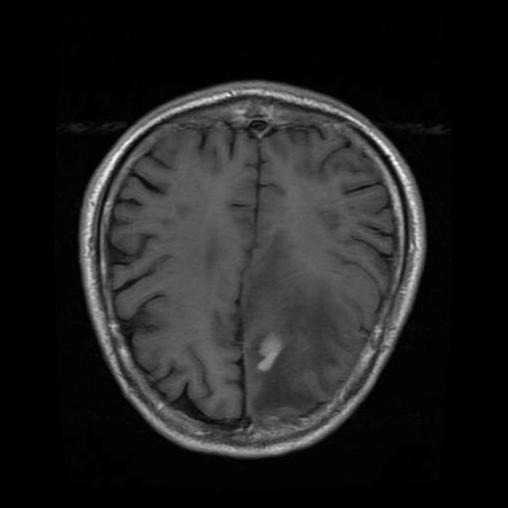Tumour-Glioma: (249, 329, 292, 385)
